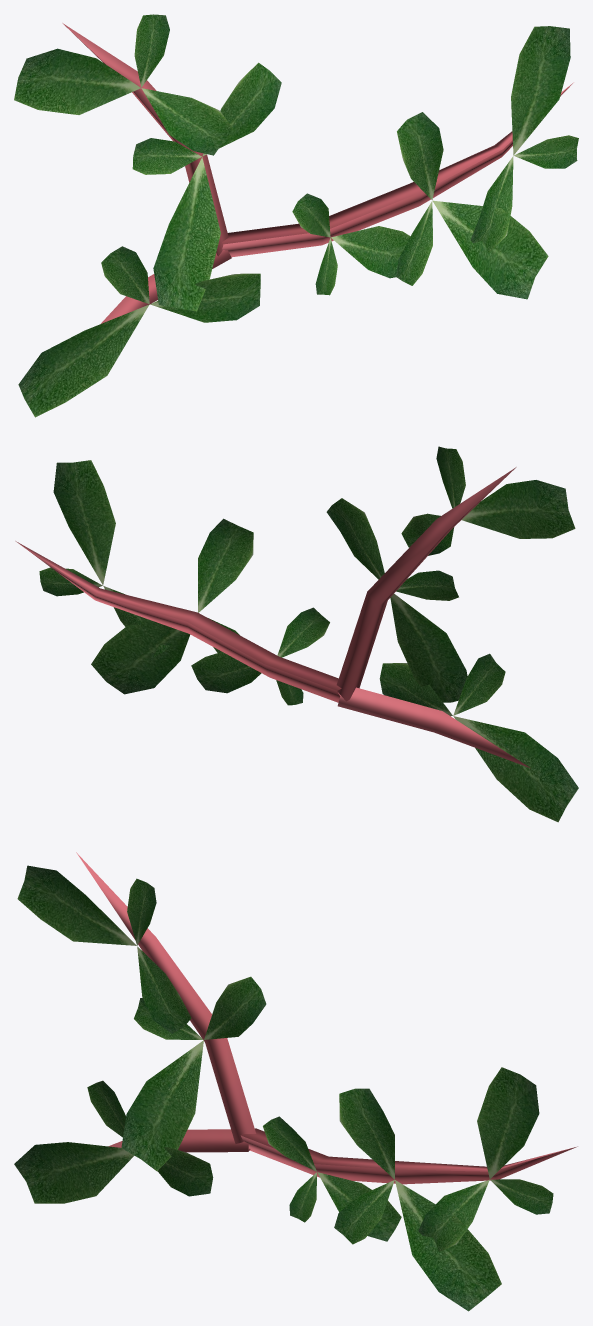
The model's file is portulaca_05.obj.
The picture shows the model from 3 angles, top to bottom: view 1: azimuth 30°, elevation 25°; view 2: azimuth 150°, elevation 25°; view 3: azimuth 330°, elevation 25°; orthographic projection. The views are drawn at different scales.
Parts seen in each view (by area): view 1: portulaca.004; view 2: portulaca.004; view 3: portulaca.004.
Boxes of the visible parts, <box> form: portulaca.004: <box>14,14,578,417</box>; portulaca.004: <box>15,446,578,822</box>; portulaca.004: <box>14,852,577,1311</box>.
Bounding box in the file's own units: 0.1883 × 0.1175 × 0.0272.
1 material, 1 textured.
